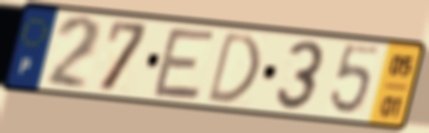2: (44, 13, 104, 92)
3: (273, 39, 328, 113)
5: (327, 40, 383, 119)
7: (98, 18, 153, 96)
D: (203, 28, 263, 106)
E: (150, 25, 219, 104)
